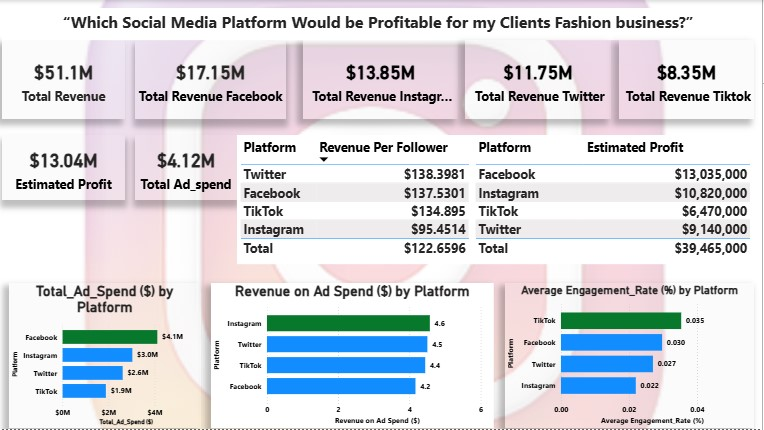

What the dashboard file says about the page in this screenshot:
{"tool":"powerbi","page":{"name":"Business Decision page","canvas":[1280,720],"ordinal":2},"visuals":[{"type":"card","fields":{"Values":["Sum(Duplicated copy.Monthly_Revenue)"]},"box":[512.3,67.2,300.7,201.6],"z":0},{"type":"card","fields":{"Values":["Sum(Duplicated copy.Monthly_Revenue)"]},"box":[979.3,67.2,300.7,201.6],"z":1000},{"type":"barChart","fields":{"Category":["Duplicated copy.Platform"],"Y":["Sum(Duplicated copy.Monthly_Revenue)"]},"box":[455.5,286.5,437.9,268.9],"z":2000},{"type":"card","fields":{"Values":["Sum(Duplicated copy.Monthly_Revenue)"]},"box":[2.9,67.6,398.2,201.3],"z":3000},{"type":"barChart","fields":{"Category":["Duplicated copy.Platform"],"Y":["Sum(Duplicated copy.Monthly_Ad_Spend)"]},"box":[2.9,286.5,414.4,268.9],"z":4000},{"type":"barChart","fields":{"Category":["Duplicated copy.Platform"],"Y":["Sum(Duplicated copy.Customer_Growth)"]},"box":[922.8,286.5,357.1,268.9],"z":5000},{"type":"textbox","box":[3.4,13.4,1259.8,53.8],"z":6000},{"type":"image","box":[965.4,123.4,130.8,60.2],"z":7000},{"type":"image","box":[529,117.6,82.3,72],"z":8000},{"type":"barChart","fields":{"Category":["Duplicated copy.Platform"],"Y":["Avg(Duplicated copy.Engagement_Rate (%))"]},"box":[2.9,555.4,414.4,164.6],"z":9000}]}

Visuals, with their boxes in screenshot pixels (x1, y1, x2, y2), scaled from the page's 1280x720 canvas onto the 764x430 screenshot:
card - Sum(Duplicated copy.Monthly_Revenue): locate(306, 40, 485, 161)
card - Sum(Duplicated copy.Monthly_Revenue): locate(585, 40, 763, 161)
barChart - Duplicated copy.Platform x Sum(Duplicated copy.Monthly_Revenue): locate(272, 171, 533, 332)
card - Sum(Duplicated copy.Monthly_Revenue): locate(2, 40, 239, 161)
barChart - Duplicated copy.Platform x Sum(Duplicated copy.Monthly_Ad_Spend): locate(2, 171, 249, 332)
barChart - Duplicated copy.Platform x Sum(Duplicated copy.Customer_Growth): locate(551, 171, 763, 332)
textbox: locate(2, 8, 754, 40)
image: locate(576, 74, 654, 110)
image: locate(316, 70, 365, 113)
barChart - Duplicated copy.Platform x Avg(Duplicated copy.Engagement_Rate (%)): locate(2, 332, 249, 429)
